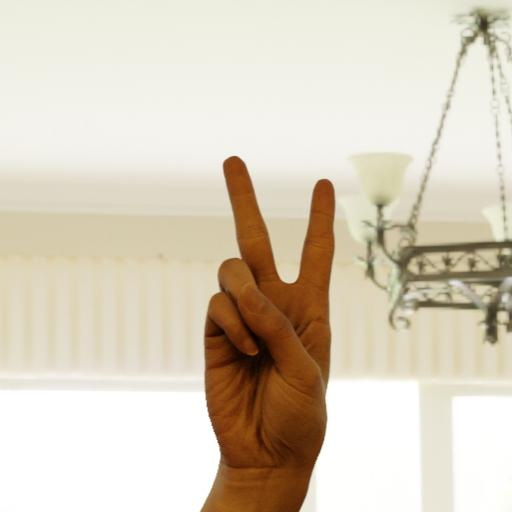V: (183, 147, 353, 476)
